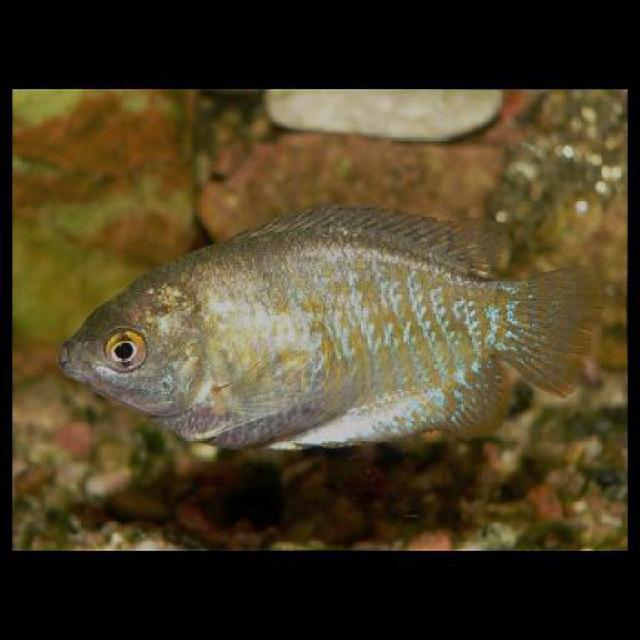Gourami: (56, 199, 599, 459)
